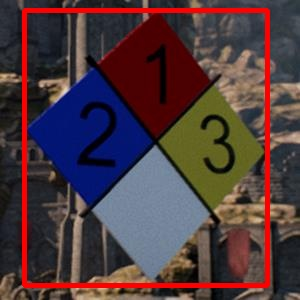nfpa: (24, 10, 267, 285)
